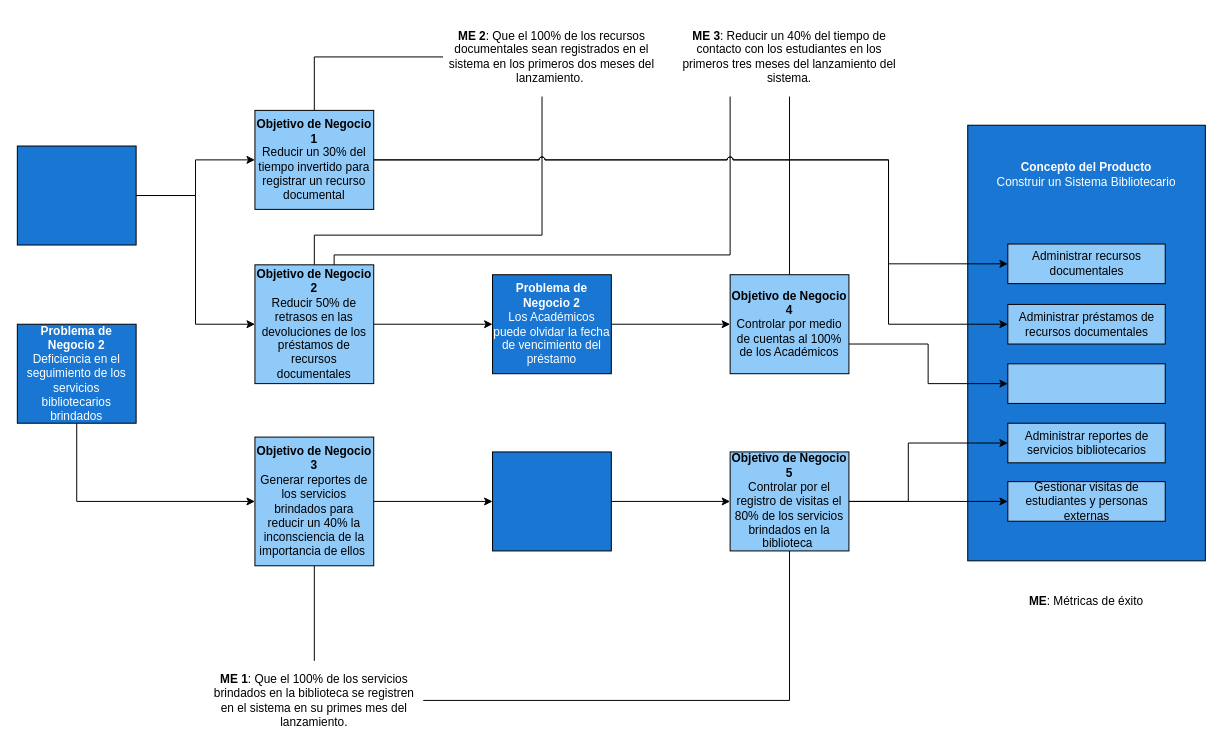
Some shapes in this 1223 by 756 pixel diagram are drawn without their labels. Each missing label, with the centre of its shape:
Gestionar cuentas de estudiantes: the point at 1086,383
Problema de Negocio 1 Deficiencia en el manejo de los recursos documentales: the point at 76,195
Problema de Negocio 2 Se brindan diferentes tipos de servicios bibliotecarios: the point at 551,501
